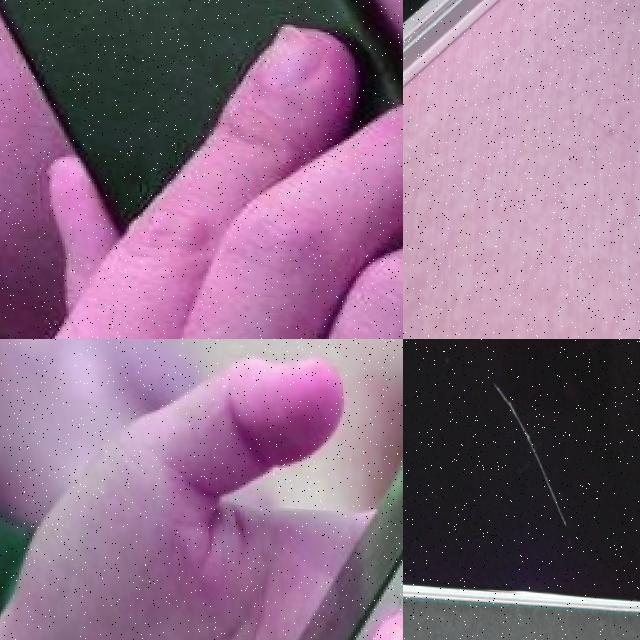scratch: (489, 380, 565, 528), (631, 445, 640, 538)
screen crack: (407, 0, 437, 10)
